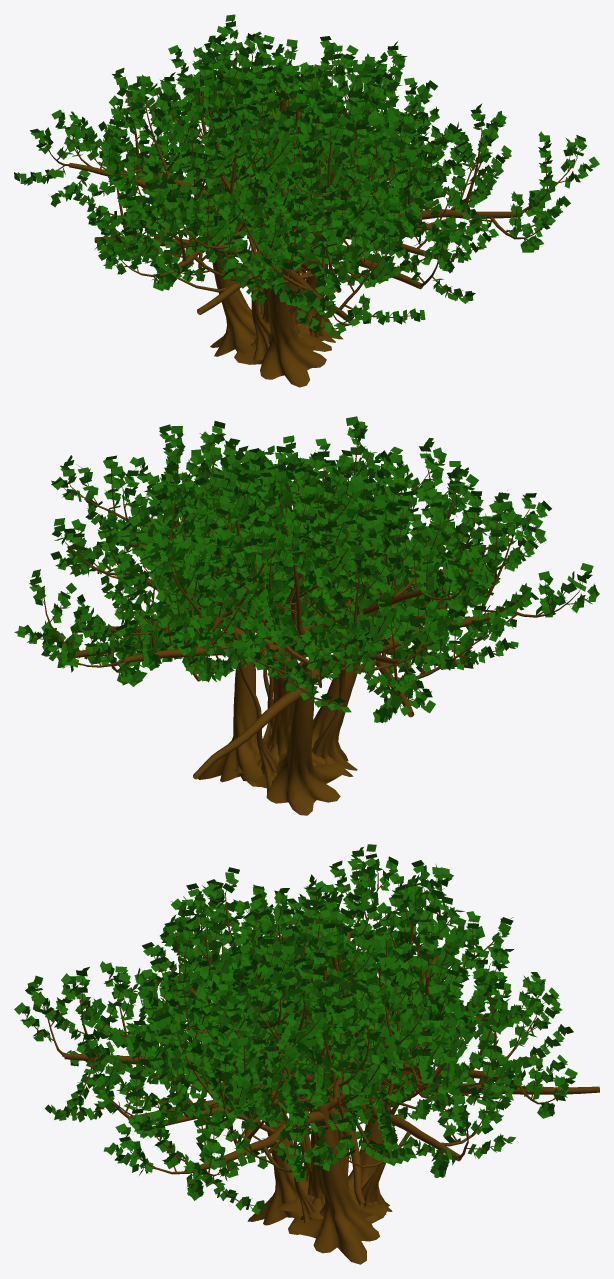
File: Busch5 Neu.FBX
The picture shows the model from 3 angles, top to bottom: view 1: azimuth 30°, elevation 25°; view 2: azimuth 150°, elevation 25°; view 3: azimuth 270°, elevation 25°; orthographic projection. The views are drawn at different scales.
Parts seen in each view (by area): view 1: Foliage009; view 2: Foliage009; view 3: Foliage009.
Part boxes in pixels (bbox=[...]): Foliage009: bbox=[14, 14, 599, 387]; Foliage009: bbox=[14, 416, 599, 815]; Foliage009: bbox=[14, 844, 599, 1264].
Bounding box in the file's own units: 413 × 246 × 394.
